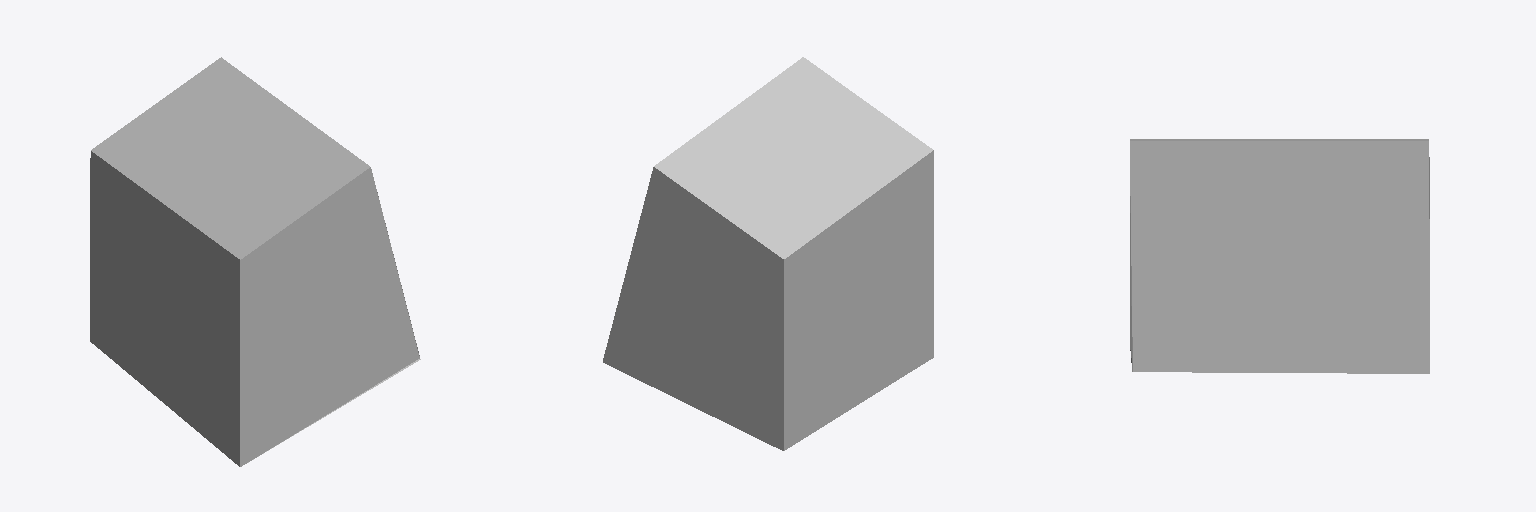
Rendered from rshoulder.obj.
3 renders of one model, left to right at view 1: azimuth 30°, elevation 25°; view 2: azimuth 150°, elevation 25°; view 3: azimuth 270°, elevation 25°, orthographic.
Visible parts, largest first — view 1: Rshoulder_Cube.010; view 2: Rshoulder_Cube.010; view 3: Rshoulder_Cube.010.
Part boxes in pixels (x1,y1,x2,y2): Rshoulder_Cube.010: (90, 57, 420, 466); Rshoulder_Cube.010: (603, 57, 933, 450); Rshoulder_Cube.010: (1130, 139, 1429, 373).
Bounding box in the file's own units: 0.4387 × 0.621 × 0.629.